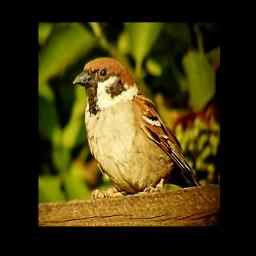Sparrow: (70, 55, 201, 205)
